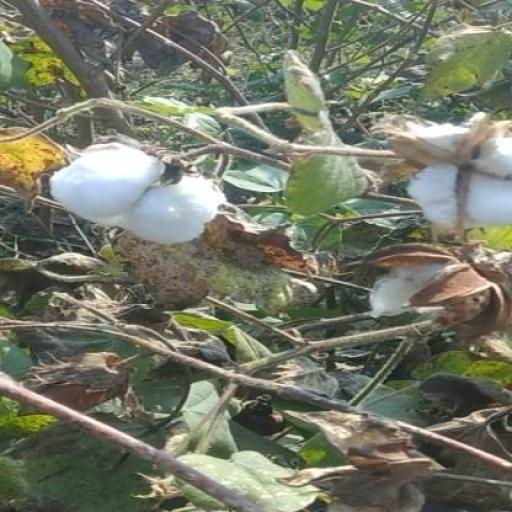cotton_ready: (44, 121, 230, 257)
